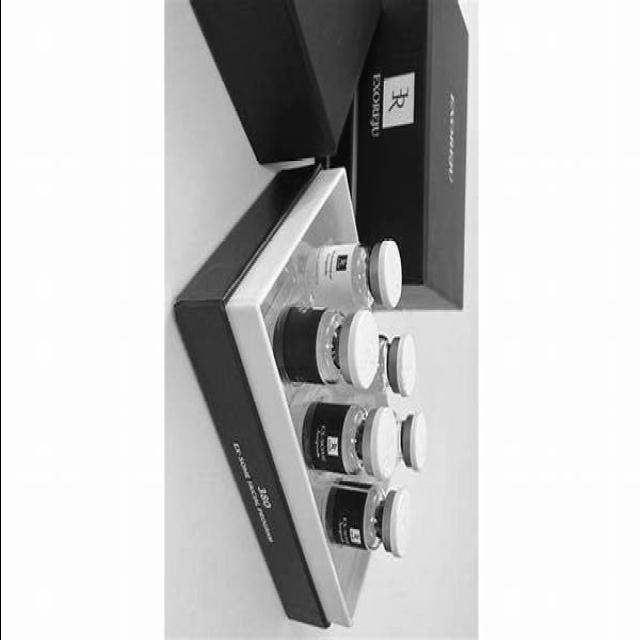vial: (370, 410, 396, 480), (352, 314, 374, 384), (394, 336, 416, 398), (388, 492, 408, 560), (379, 239, 398, 305), (408, 408, 426, 470)
